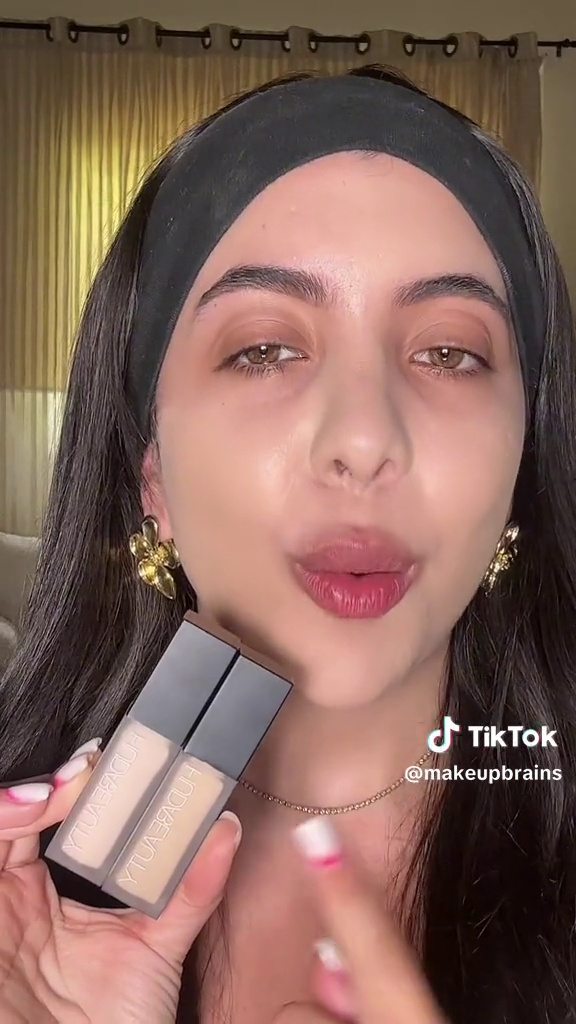train' :'yolo_data/train/images',: (38, 597, 304, 923)
